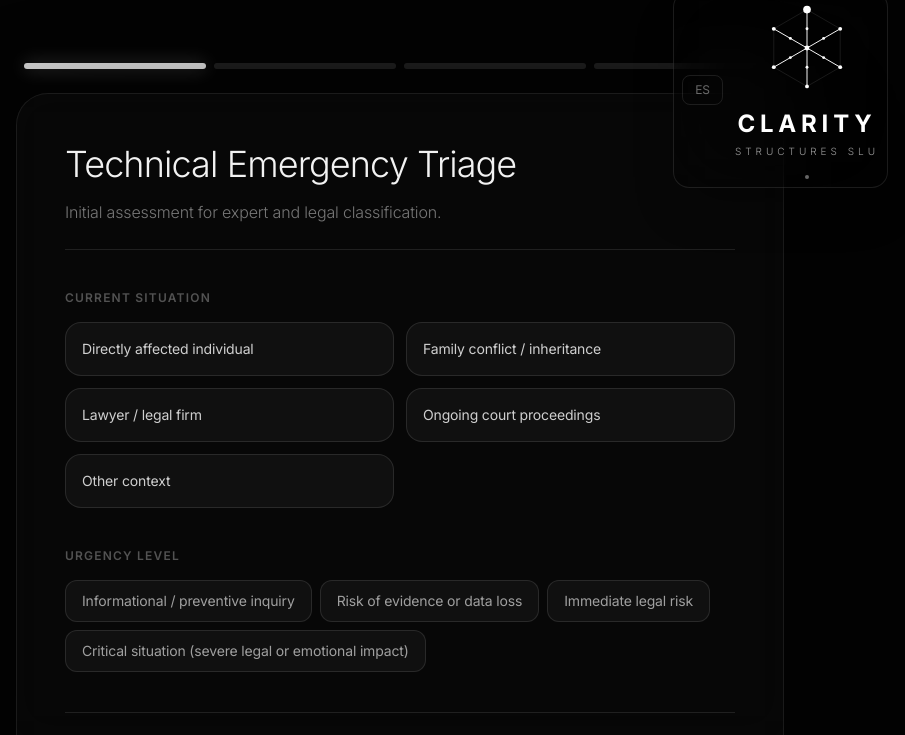
Test: Wizard i18n — English locale › navigates full English flow to COGNITIVE
The image size is (905, 735).
Click the radio button "Directly affected individual".
click(230, 349)  # box [65,322,394,376]
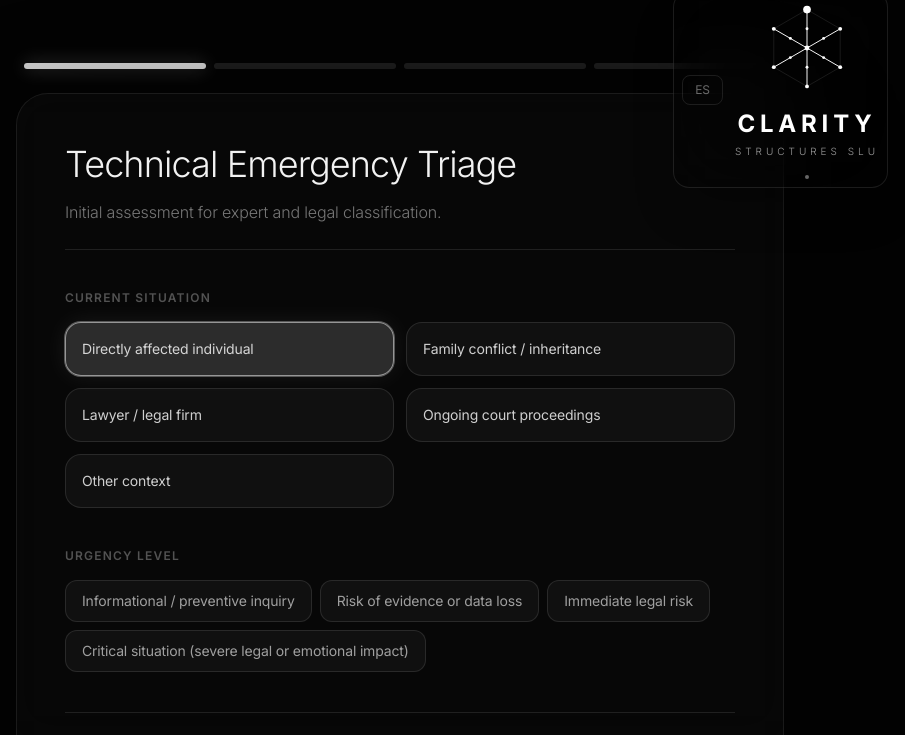
Click the radio button "Informational / preventive inquiry".
click(188, 601)  # box [65,580,312,622]
(page scrolled)
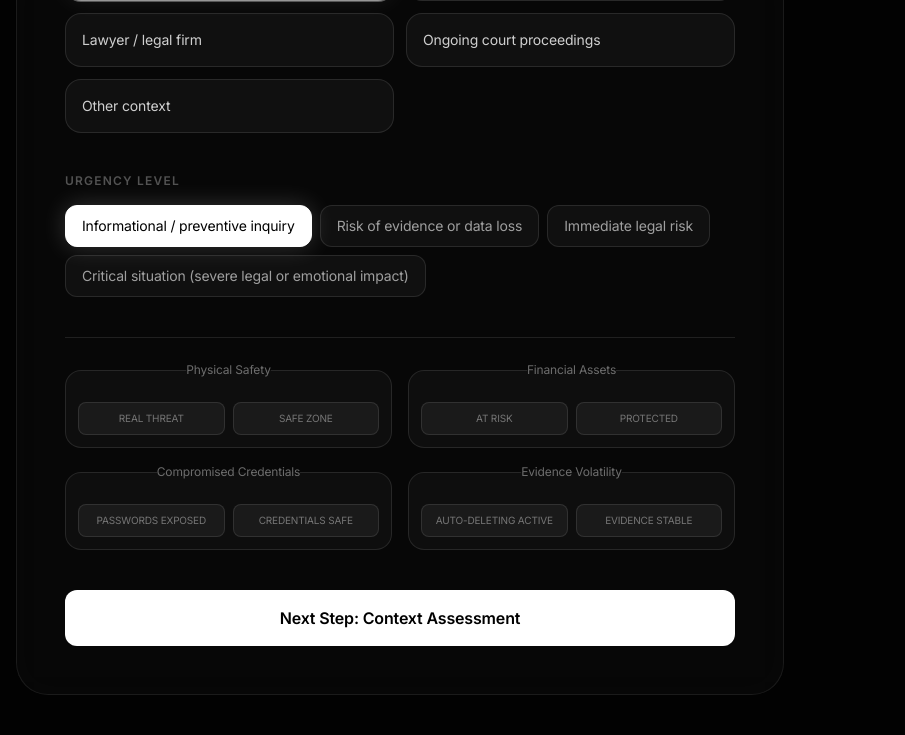
Click the button "Next Step: Context Assessment".
click(400, 618)  # box [65,590,735,646]
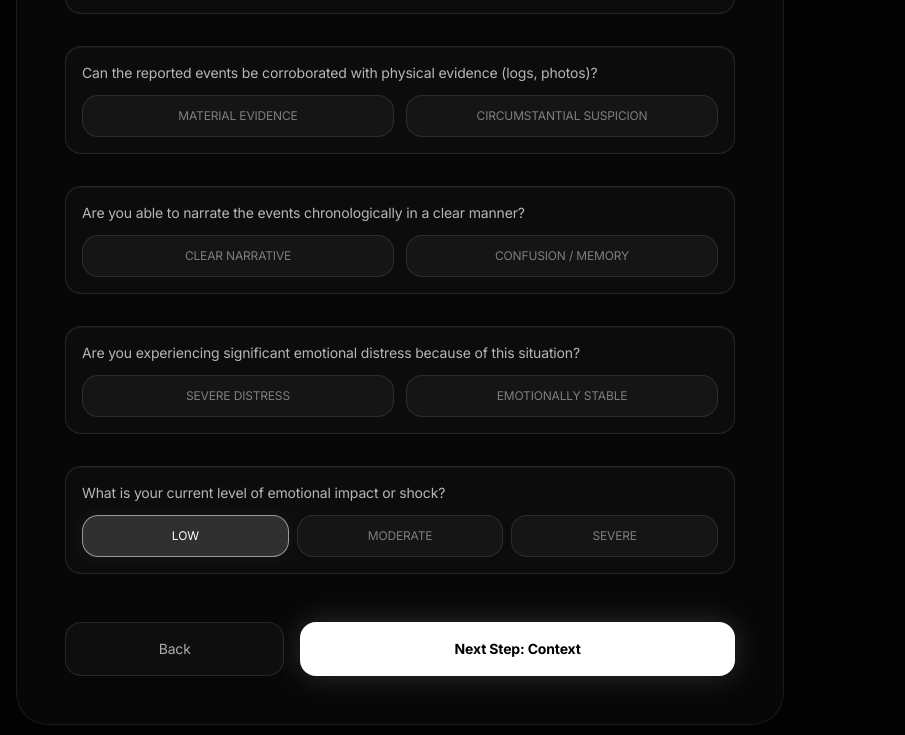
Expected: the radio button "SEVERE DISTRESS" is shown, [82,375,394,417]
Expected: the radio button "EMOTIONALLY STABLE" is shown, [406,375,718,417]
Expected: the radio button "LOW" is shown, [82,515,289,557]
